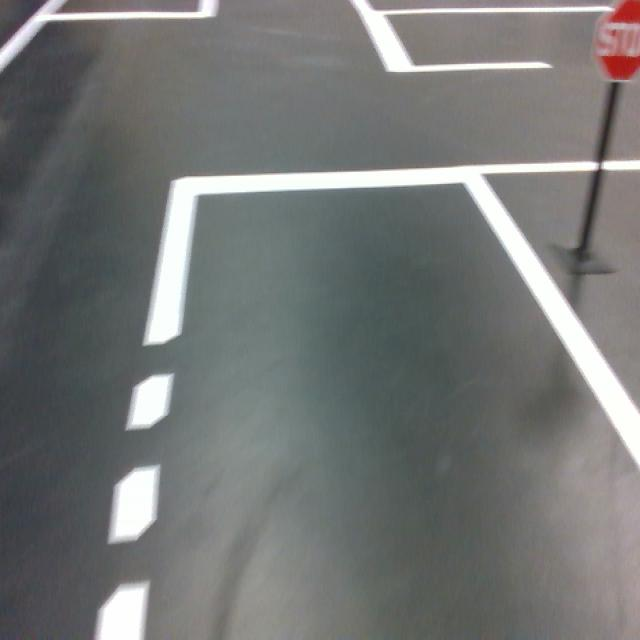stop-sign: (589, 0, 640, 83)
